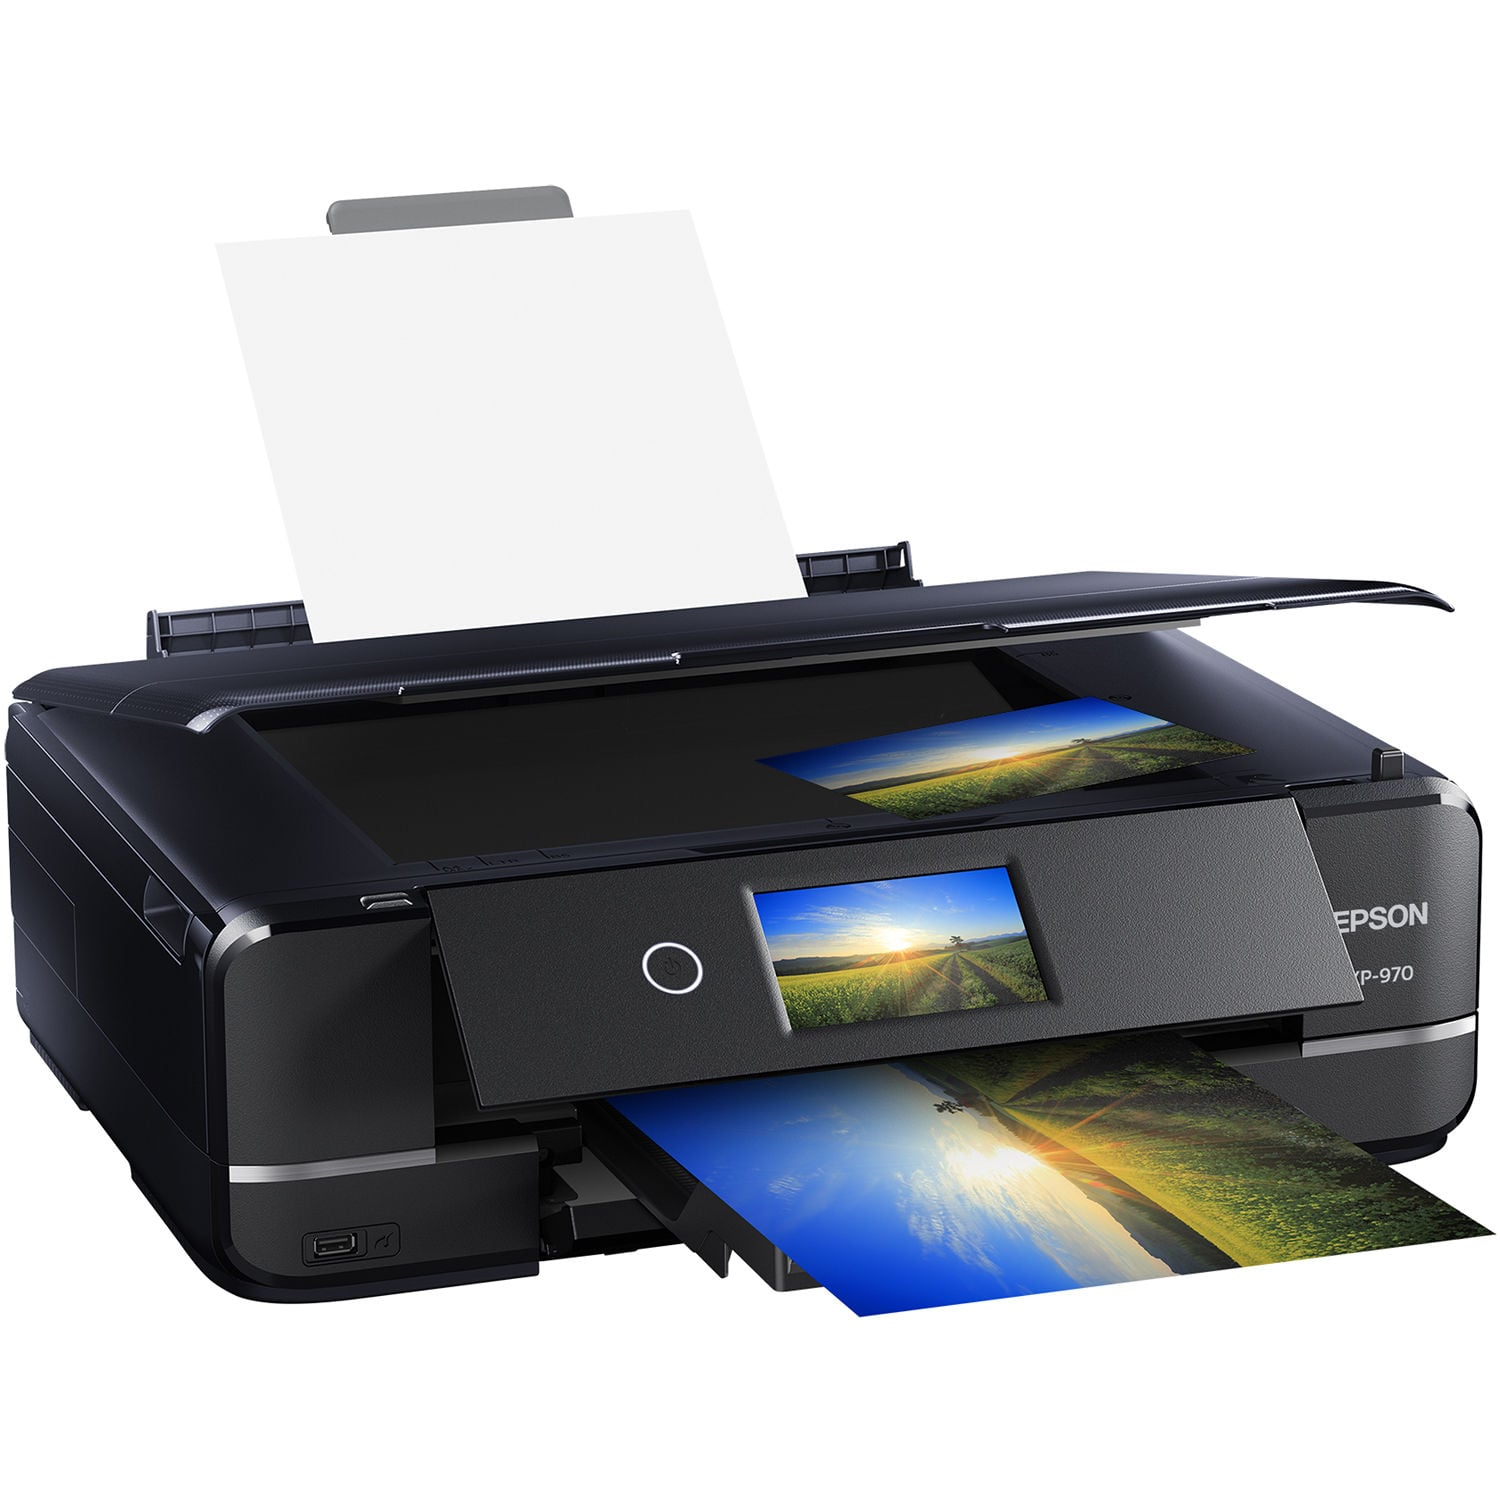printer: (11, 180, 1500, 1343)
